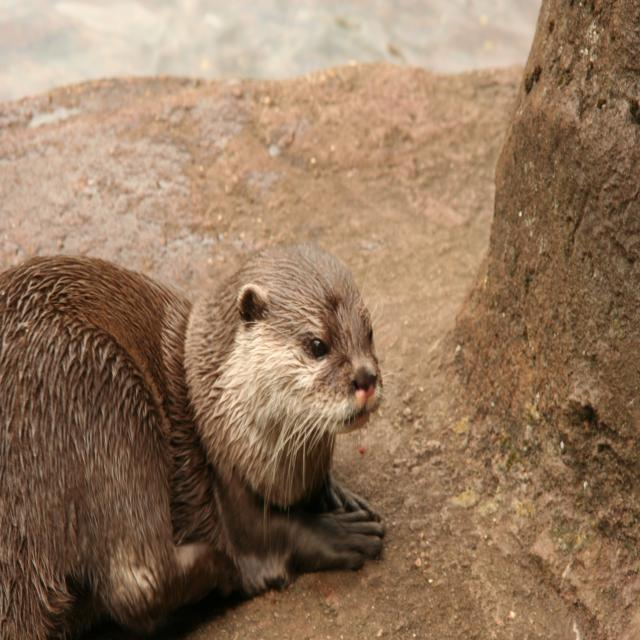otter: (1, 244, 383, 640)
